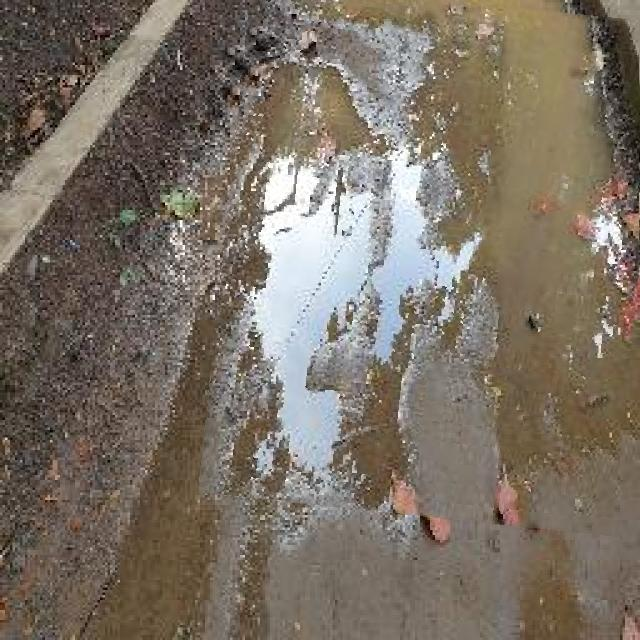puddle: (212, 1, 640, 527)
